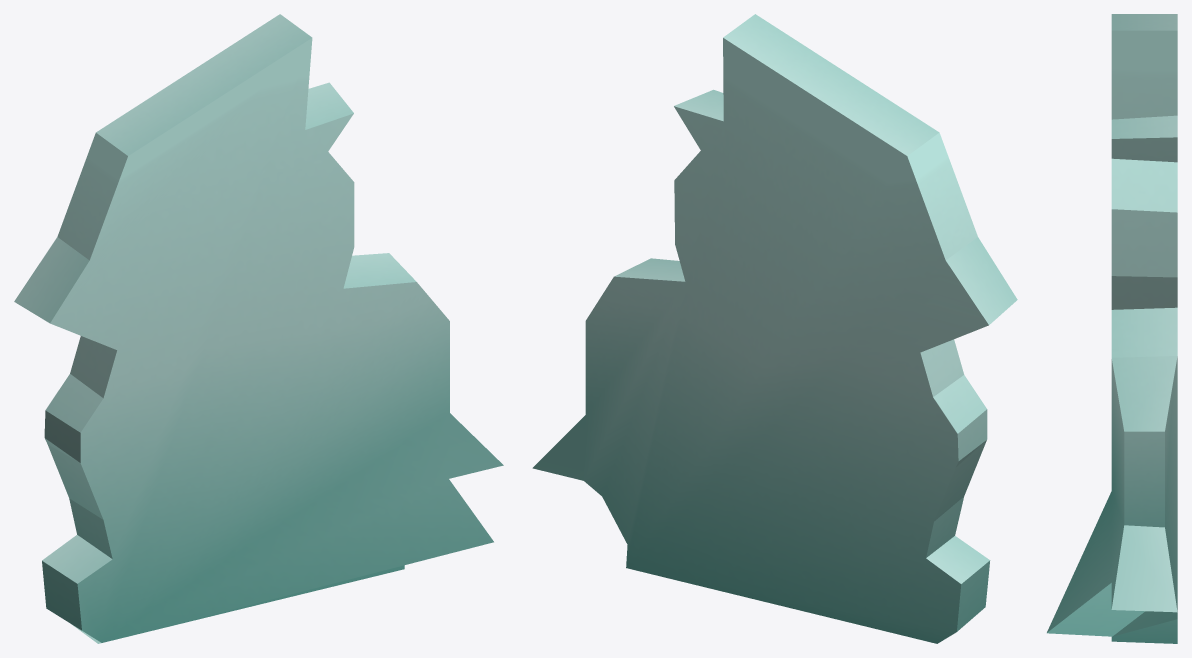
The model's file is Mod_Mirror_02.fbx.
3 views of the same model, side by side, from view 1: azimuth 30°, elevation 25°; view 2: azimuth 150°, elevation 25°; view 3: azimuth 270°, elevation 25° (orthographic).
Visible parts, largest first — view 1: Mod_Mirror_02; view 2: Mod_Mirror_02; view 3: Mod_Mirror_02.
Boxes of the visible parts, x1=… form: Mod_Mirror_02: x1=14, y1=14, x2=503, y2=643; Mod_Mirror_02: x1=532, y1=14, x2=1017, y2=643; Mod_Mirror_02: x1=1047, y1=14, x2=1177, y2=643.
Size of the model in its own units: 81.77 by 94.61 by 19.89.
